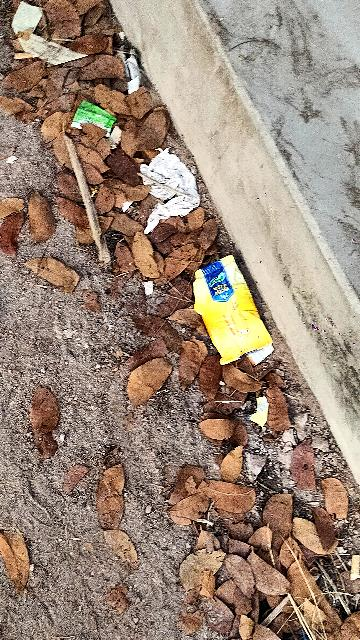packet: (187, 254, 269, 365), (72, 100, 115, 134)
